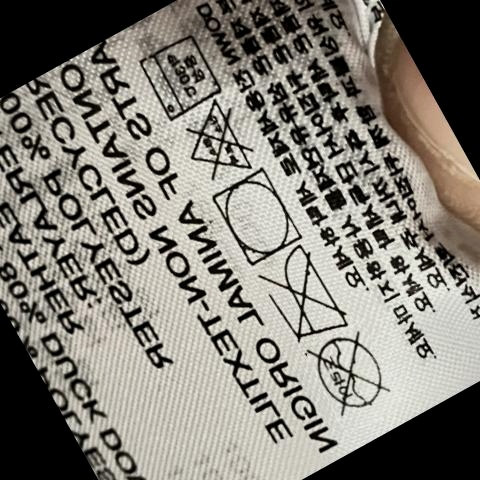30C: (132, 40, 221, 120)
DN_bleach: (182, 104, 257, 176)
DN_dry_clean: (304, 335, 389, 413)
DN_iron: (258, 249, 351, 342)
tumble_dry_normal: (204, 170, 301, 263)
